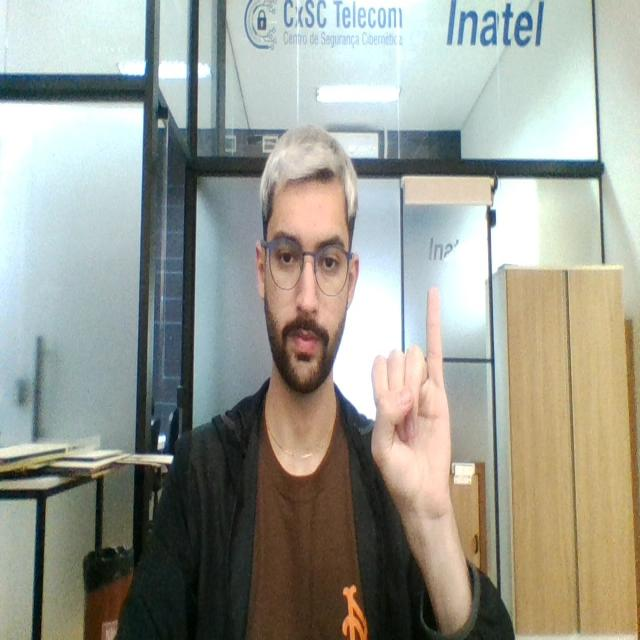I: (368, 286, 452, 514)
